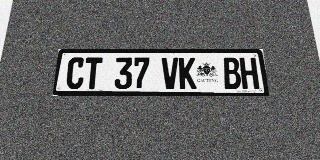3: (114, 57, 132, 89)
7: (132, 57, 150, 89)
B: (222, 57, 242, 89)
C: (65, 57, 85, 89)
H: (239, 58, 259, 89)
K: (179, 57, 197, 89)
T: (83, 57, 103, 89)
V: (162, 57, 179, 89)
